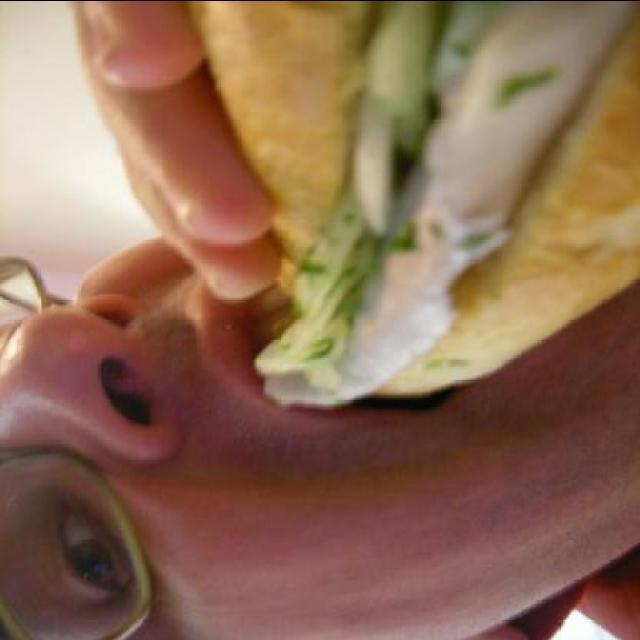Sandwich: (184, 1, 638, 404)
